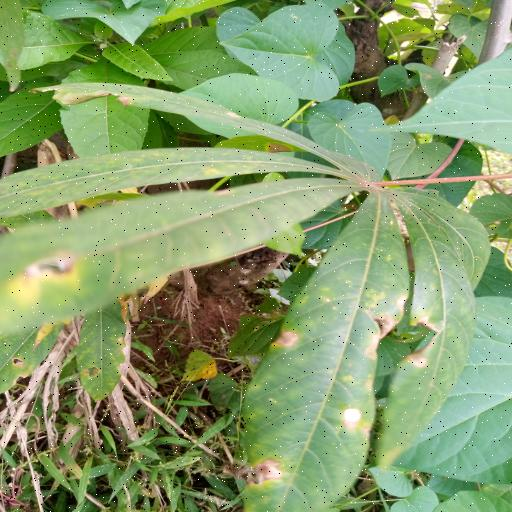Cassava_Brown_Leaf_Spot: (1, 80, 494, 512)
